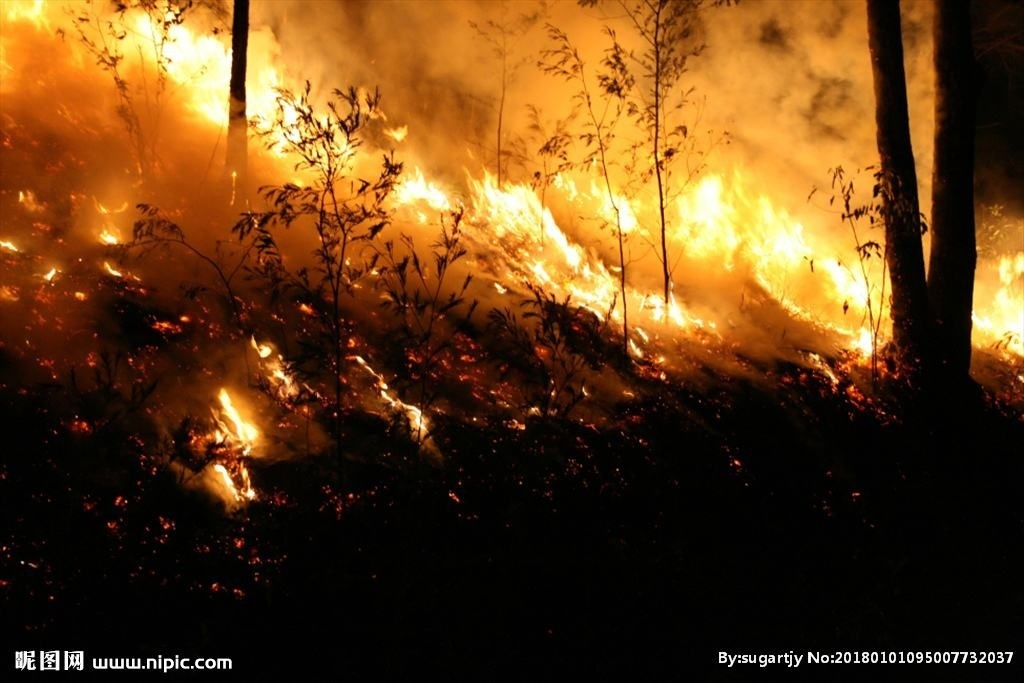fire: (194, 380, 263, 504), (359, 367, 430, 438), (253, 333, 305, 411)
